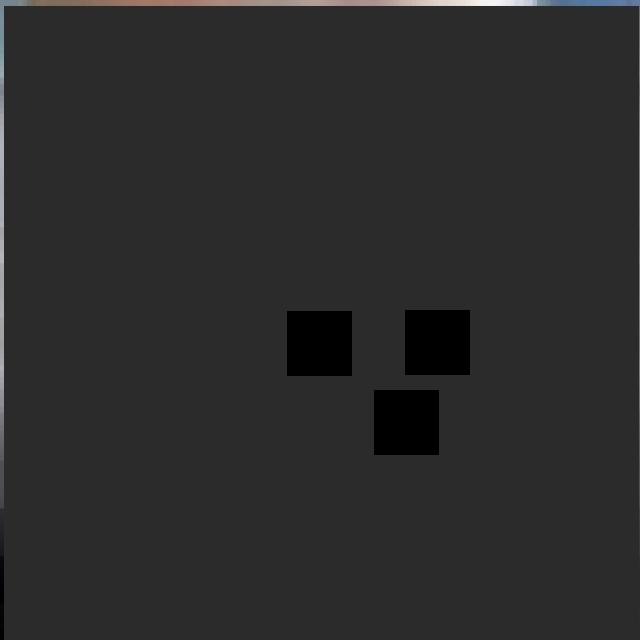fire: (4, 6, 640, 640)
